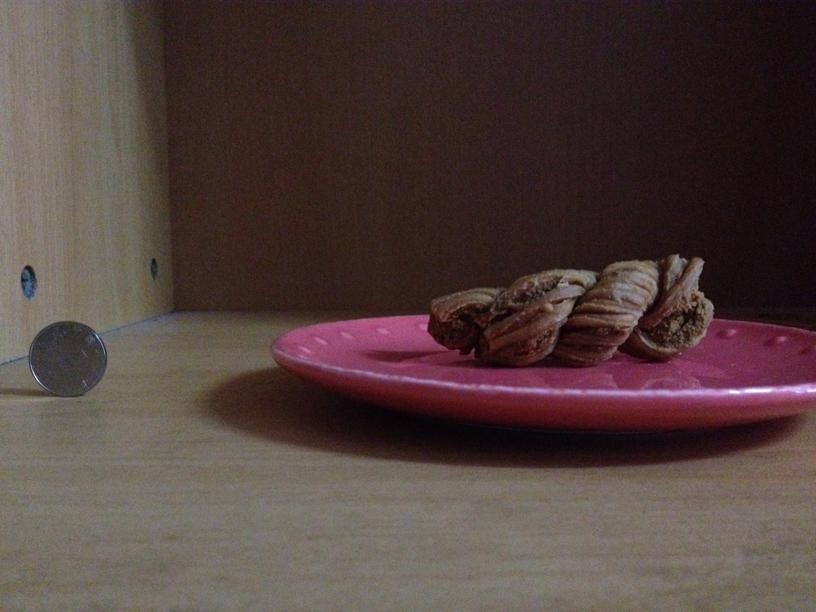coin: (27, 321, 106, 397)
fired_dough_twist: (430, 255, 711, 363)
